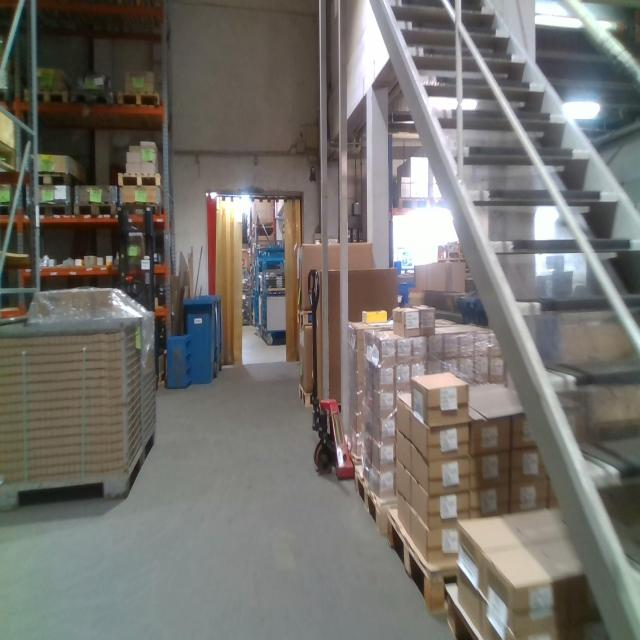pallet: (387, 501, 474, 618), (352, 461, 395, 538), (441, 582, 492, 635), (23, 83, 68, 112), (119, 89, 161, 117), (23, 200, 71, 223), (68, 88, 119, 109), (117, 168, 167, 188), (25, 174, 87, 190), (71, 200, 116, 220), (0, 141, 20, 179), (119, 200, 165, 216), (299, 379, 316, 409), (295, 304, 314, 324)
pallet_truck: (308, 266, 358, 484), (116, 197, 159, 400)
stillage: (2, 300, 161, 518)
